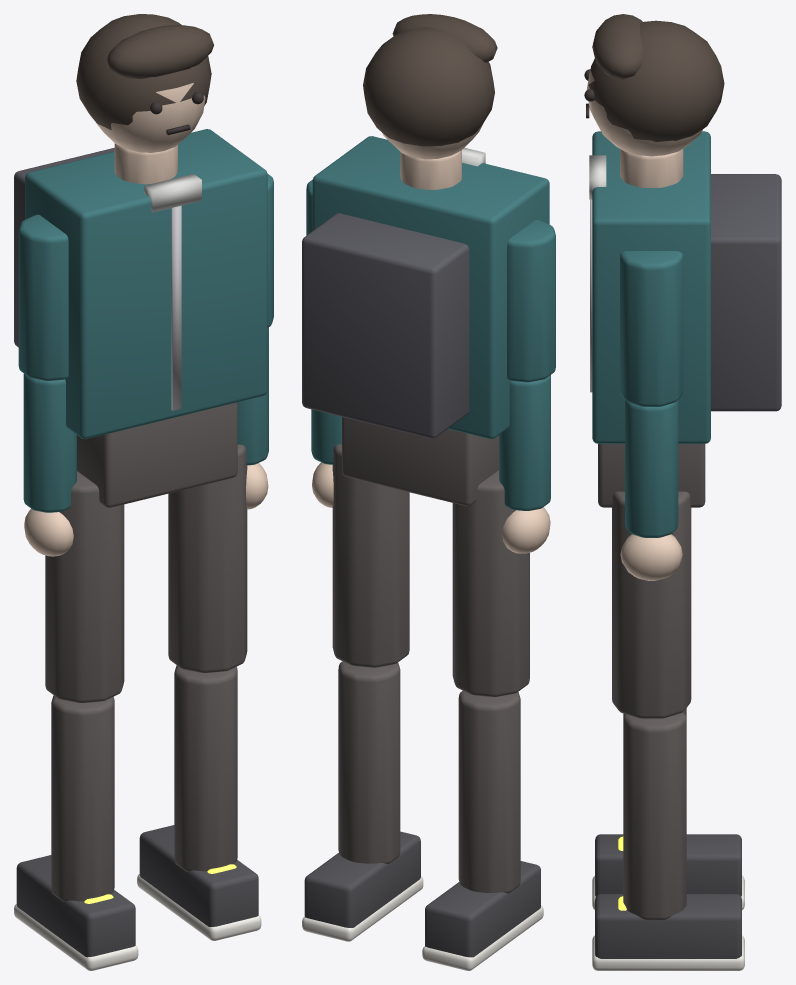
File: personaje.glb
3 views of the same model, side by side, from view 1: azimuth 30°, elevation 25°; view 2: azimuth 150°, elevation 25°; view 3: azimuth 270°, elevation 25° (orthographic). The views are drawn at different scales.
Visible parts, largest first — view 1: Torso, Muslo_Der, Muslo_Izq, Pantorrilla_Izq, Pantorrilla_Der, Cadera, Brazo_Izq, Pelo_Base, Antebrazo_Izq, Zapato_Izq, Zapato_Der, Flequillo (+11 smaller); view 2: Mochila, Torso, Muslo_Der, Muslo_Izq, Pantorrilla_Der, Pantorrilla_Izq, Pelo_Base, Cadera, Brazo_Izq, Zapato_Der, Zapato_Izq, Antebrazo_Izq (+8 smaller); view 3: Torso, Mochila, Muslo_Der, Pantorrilla_Der, Pelo_Base, Brazo_Der, Zapato_Der, Antebrazo_Der, Zapato_Izq, Cadera, Flequillo, Mano_Der (+5 smaller).
Part boxes in pixels (x1,y1,x2,y2): Torso: (25,129,267,439); Muslo_Der: (168,444,247,672); Muslo_Izq: (45,471,124,702); Pantorrilla_Izq: (51,695,114,901); Pantorrilla_Der: (174,665,237,871); Cadera: (77,402,237,507); Brazo_Izq: (18,214,68,380); Pelo_Base: (76,14,211,129); Antebrazo_Izq: (23,374,76,512); Zapato_Izq: (16,855,135,957); Zapato_Der: (139,825,258,926); Flequillo: (106,25,213,78); Mochila: (302,213,469,438); Torso: (312,136,549,439); Muslo_Der: (332,444,409,667); Muslo_Izq: (452,470,529,696); Pantorrilla_Der: (338,661,400,863); Pantorrilla_Izq: (458,691,520,893); Pelo_Base: (363,27,494,146); Cadera: (342,417,498,506); Brazo_Izq: (507,220,555,382); Zapato_Der: (304,831,420,927); Zapato_Izq: (425,861,540,957); Antebrazo_Izq: (499,375,550,510); Torso: (592,131,710,443); Mochila: (711,174,781,411); Muslo_Der: (612,491,691,718); Pantorrilla_Der: (623,712,686,920); Pelo_Base: (588,20,724,141); Brazo_Der: (620,251,683,406); Zapato_Der: (595,894,741,958); Antebrazo_Der: (625,400,678,537); Zapato_Izq: (595,834,741,896); Cadera: (598,444,705,507); Flequillo: (592,14,643,79); Mano_Der: (620,534,682,580).
Bounding box in the file's own units: 0.5003 × 1.77 × 0.349.
